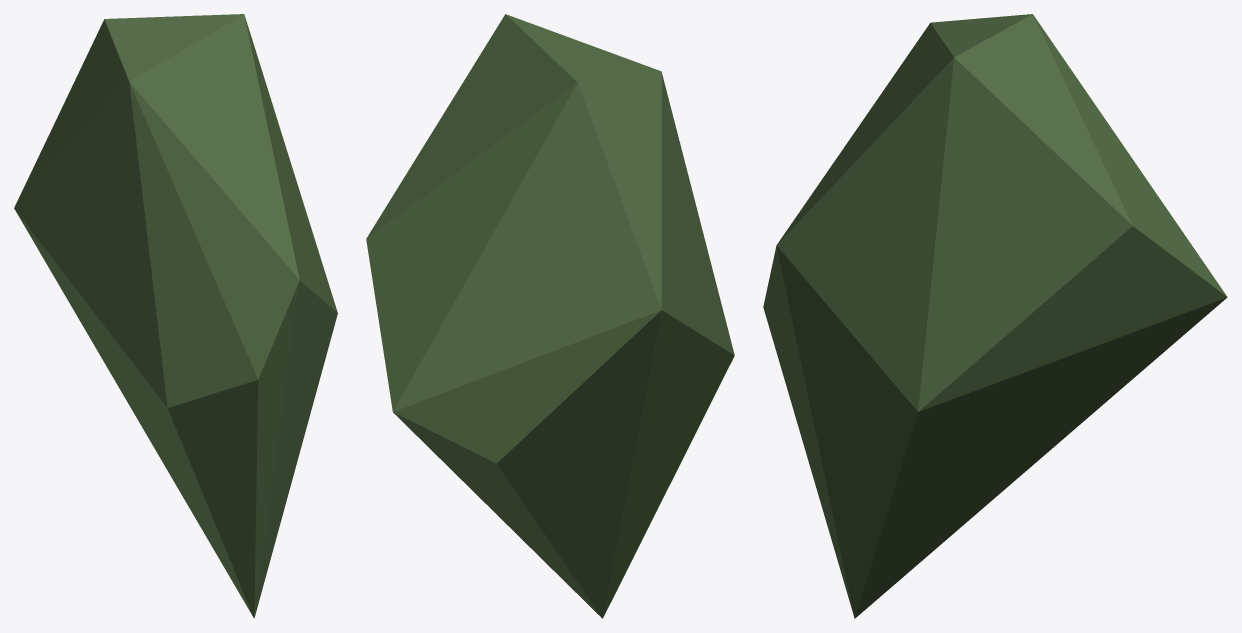
File: BirchTree_1.lod4.glb
3 views of the same model, side by side, from view 1: azimuth 30°, elevation 25°; view 2: azimuth 150°, elevation 25°; view 3: azimuth 270°, elevation 25° (orthographic). The views are drawn at different scales.
Parts seen in each view (by area): view 1: BirchTree_1; view 2: BirchTree_1; view 3: BirchTree_1.
Part boxes in pixels (x1,y1,x2,y2): BirchTree_1: (14,14,337,618); BirchTree_1: (366,14,734,618); BirchTree_1: (763,14,1227,618).
Bounding box in the file's own units: 1.76 × 3.63 × 2.63.
